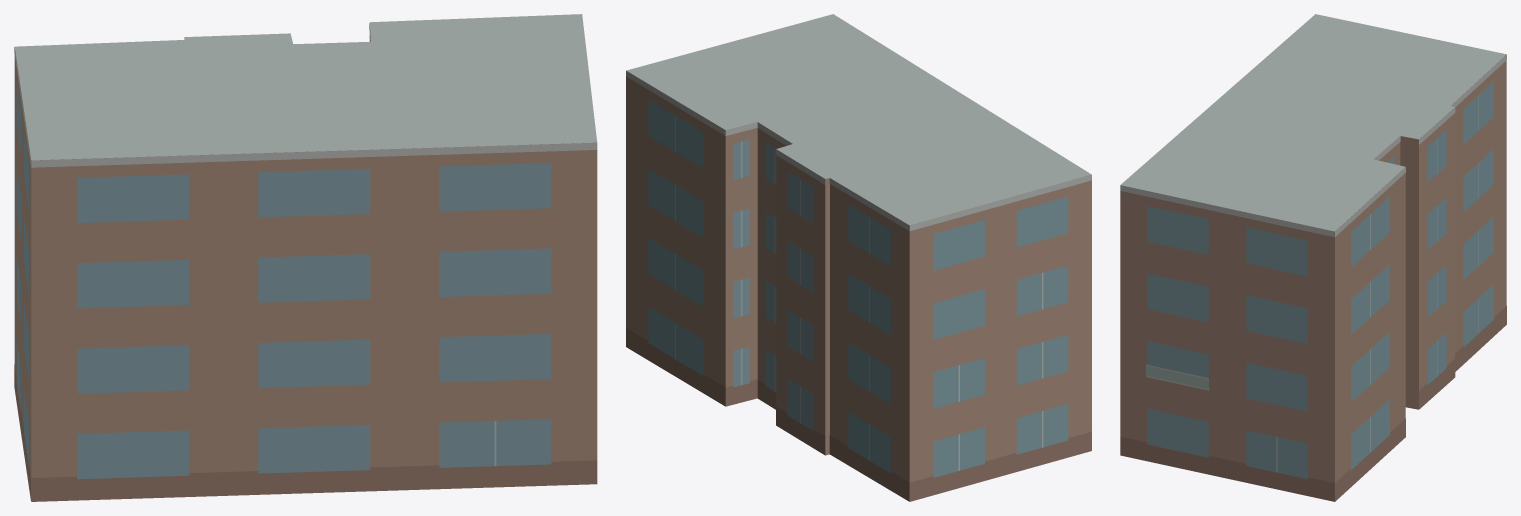
File: survey-upis-32890166.glb
3 renders of one model, left to right at view 1: azimuth 30°, elevation 25°; view 2: azimuth 150°, elevation 25°; view 3: azimuth 270°, elevation 25°, orthographic. The views are drawn at different scales.
Visible parts, largest first — view 1: survey-upis-32890166.tmp; view 2: survey-upis-32890166.tmp; view 3: survey-upis-32890166.tmp.
Boxes of the visible parts, left/top/right/bottom form: survey-upis-32890166.tmp: left=14, top=14, right=597, bottom=501; survey-upis-32890166.tmp: left=626, top=14, right=1091, bottom=501; survey-upis-32890166.tmp: left=1120, top=14, right=1506, bottom=501.
Bounding box in the file's own units: 19.86 × 11.5 × 14.91.
